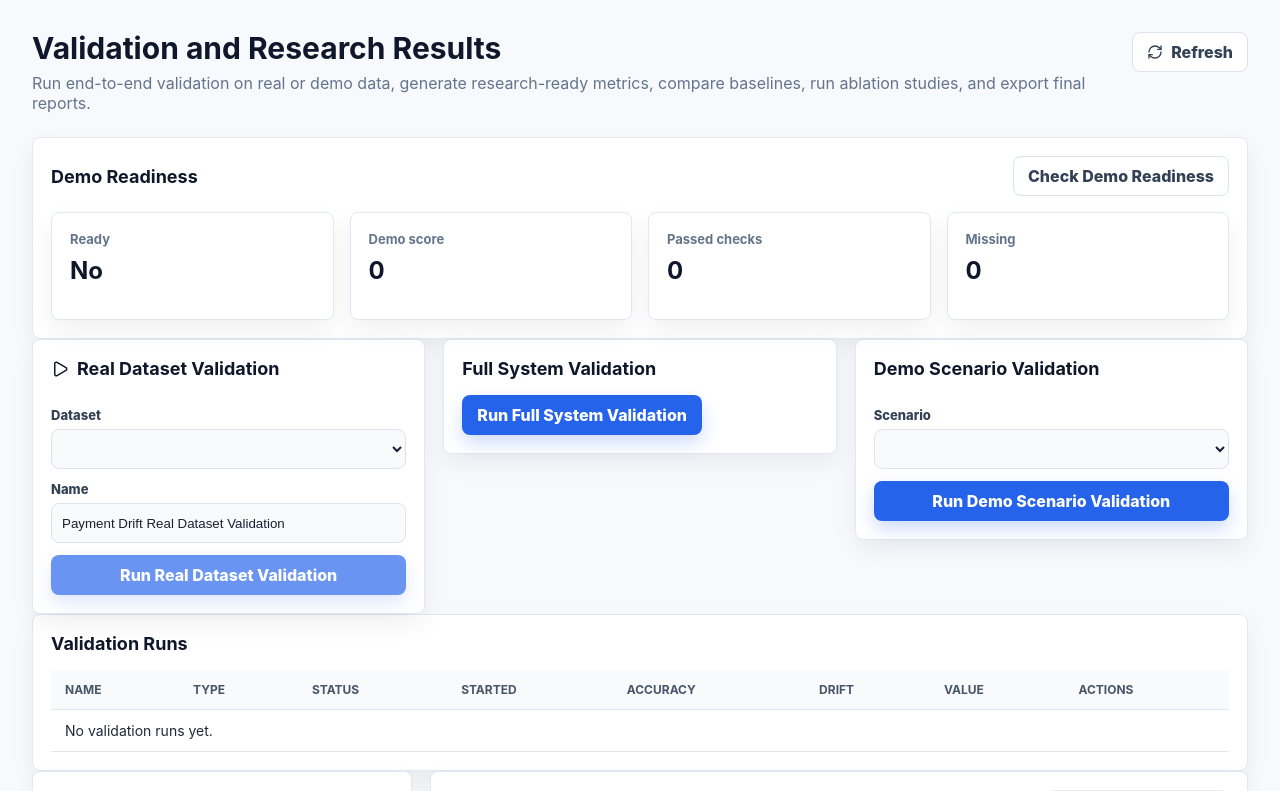
Test: ValidationResearchDashboard smoke › shows a visible error when validation action fails
The image size is (1280, 791).
What coordinates should you click on to do the following:
click the button "Run Full System Validation"
I would click on:
 (582, 415)
Its box is [462, 395, 702, 435].
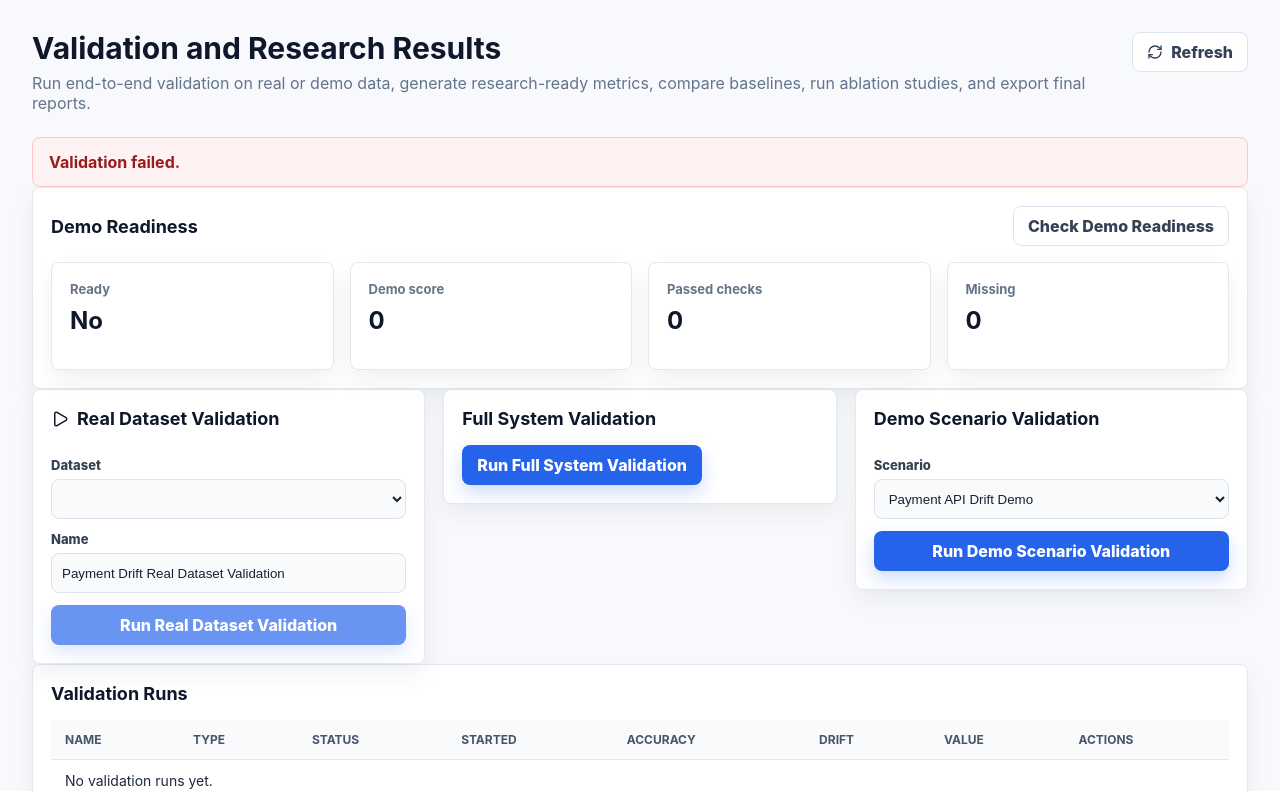
Check: the text "Validation failed." is shown, box [32, 137, 1248, 187]
